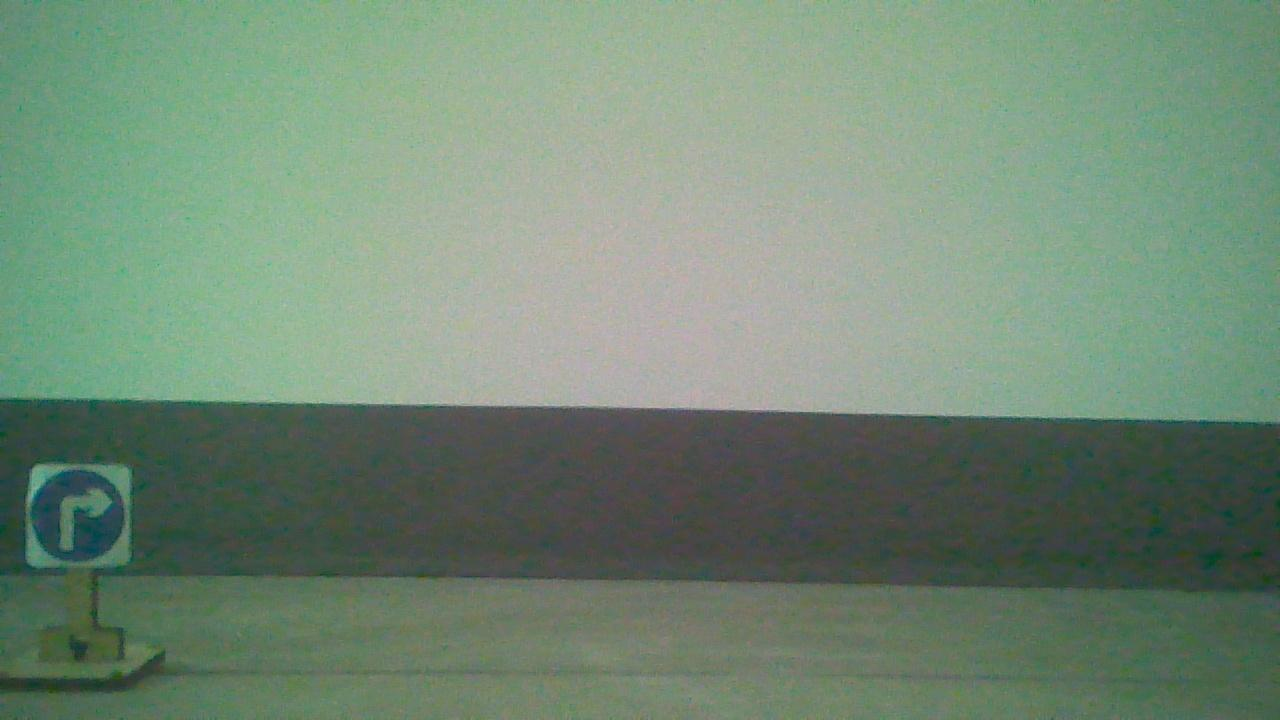turn: (24, 467, 129, 569)
